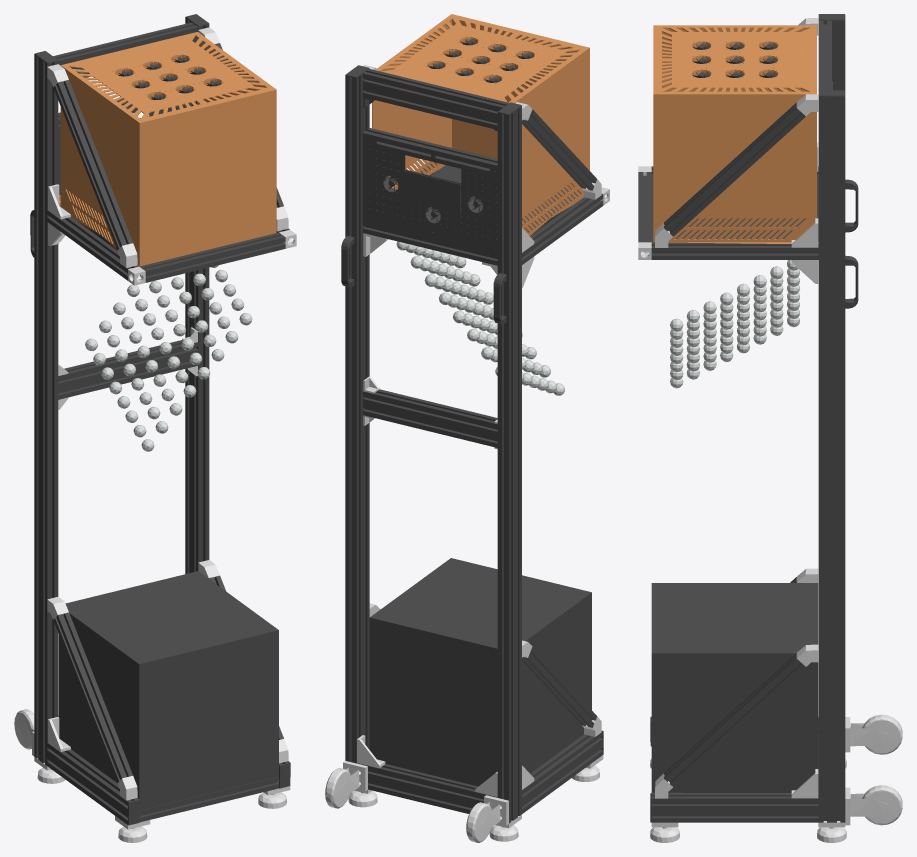
File: STRAIDE.glb
3 views of the same model, side by side, from view 1: azimuth 30°, elevation 25°; view 2: azimuth 150°, elevation 25°; view 3: azimuth 270°, elevation 25° (orthographic). The views are drawn at different scales.
Visible parts, largest first — view 1: STRAIDE Combined; view 2: STRAIDE Combined; view 3: STRAIDE Combined.
Part boxes in pixels (x1,y1,x2,y2): STRAIDE Combined: (14, 14, 296, 842); STRAIDE Combined: (325, 14, 609, 842); STRAIDE Combined: (638, 14, 902, 842).
Bounding box in the file's own units: 589 × 2468 × 792.
